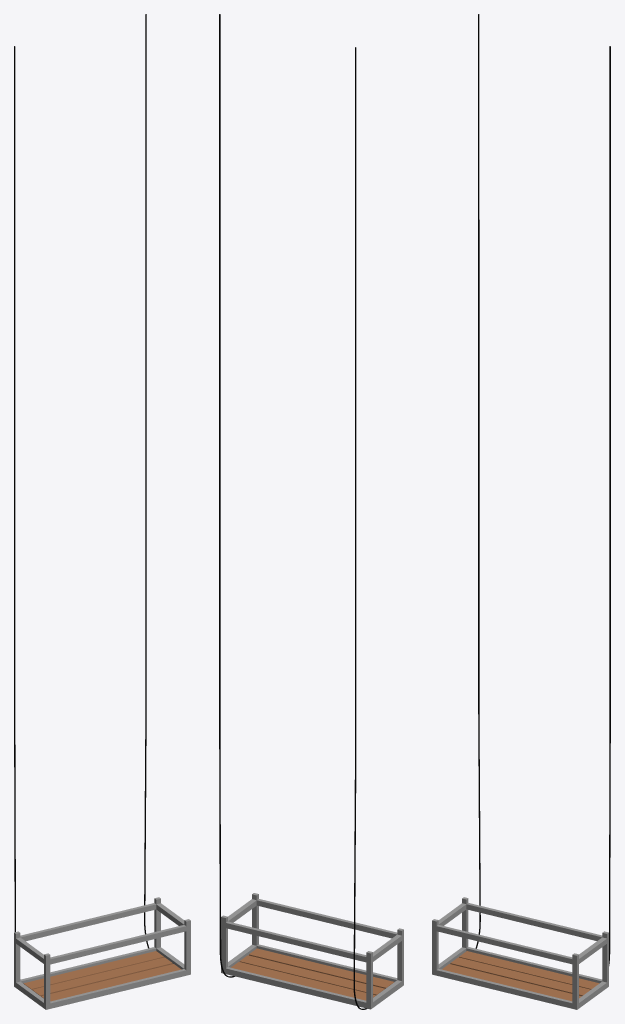
The model's file is scafolding 1.fbx.
The picture shows the model from 3 angles, left to right: view 1: azimuth 30°, elevation 25°; view 2: azimuth 150°, elevation 25°; view 3: azimuth 330°, elevation 25°; orthographic projection. The views are drawn at different scales.
Visible parts, largest first — view 1: NurbsPath; view 2: NurbsPath; view 3: NurbsPath.
Boxes of the visible parts, x1=… form: NurbsPath: x1=14, y1=14, x2=190, y2=1009; NurbsPath: x1=219, y1=14, x2=403, y2=1009; NurbsPath: x1=432, y1=14, x2=610, y2=1009.
Size of the model in its own units: 6.15 by 38.12 by 2.91.
